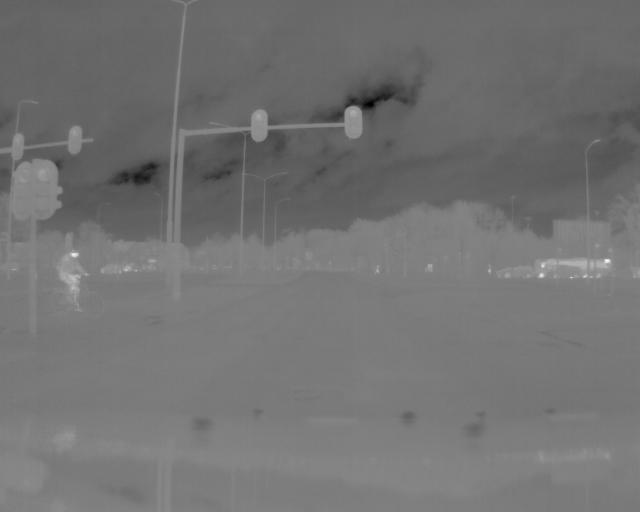car: (497, 262, 537, 280)
person: (56, 246, 90, 313)
